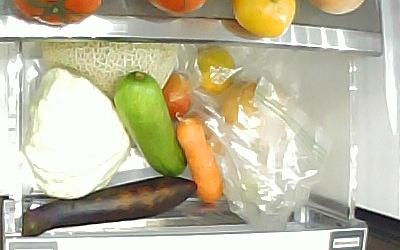cabbage: (26, 67, 129, 200)
carrot: (177, 116, 223, 206)
eggplant: (22, 177, 197, 235)
melon: (41, 43, 178, 98)
pear_vinyl: (222, 83, 266, 129)
prune_vinyl: (162, 71, 192, 122)
tangerine_vinyl: (190, 48, 235, 96)
zucchini: (114, 72, 187, 178)
